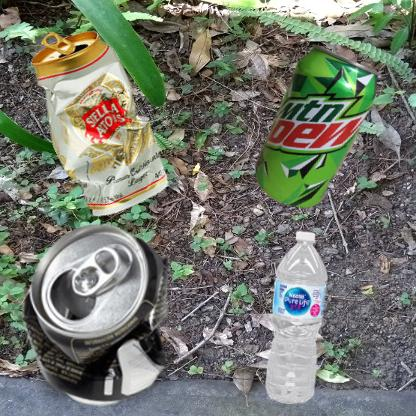botella: (213, 213, 386, 416)
lata: (10, 10, 215, 281), (213, 10, 416, 278), (10, 213, 190, 416)
